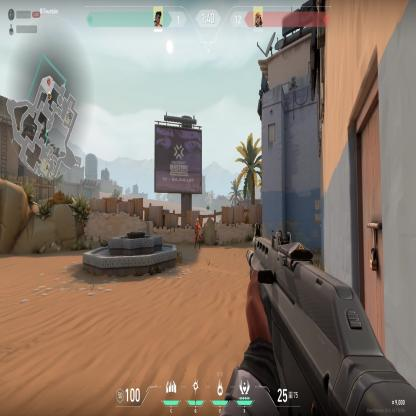enemy: (193, 216, 202, 252)
